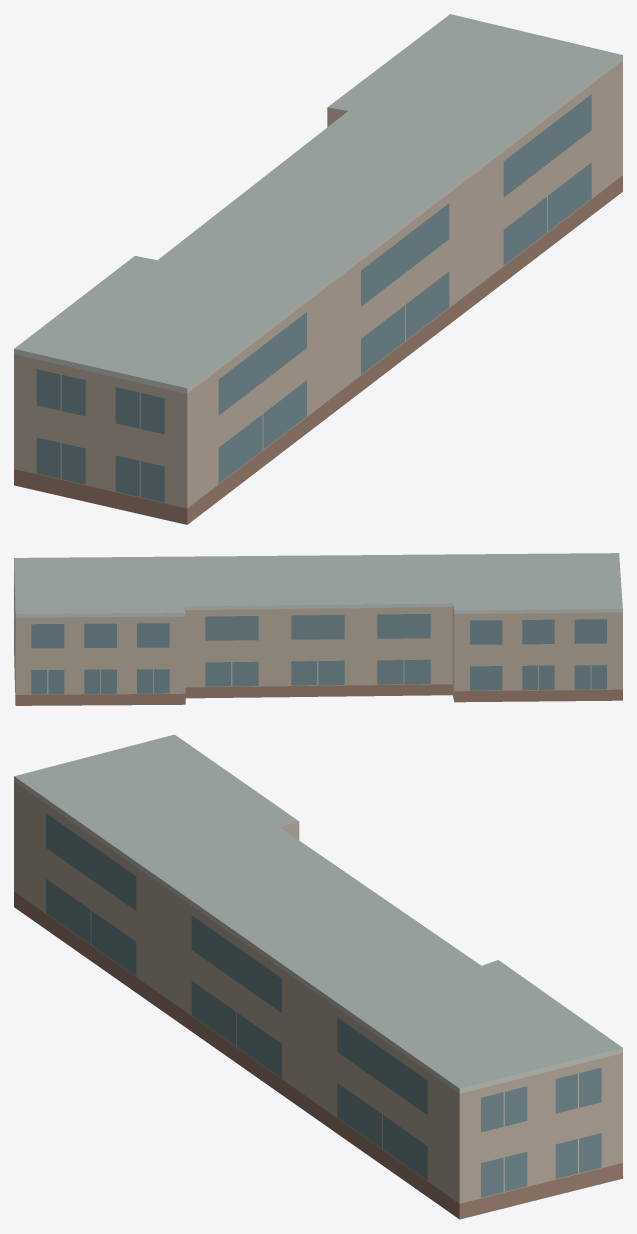
File: survey-upis-32910478.glb
3 renders of one model, top to bottom at view 1: azimuth 30°, elevation 25°; view 2: azimuth 150°, elevation 25°; view 3: azimuth 270°, elevation 25°, orthographic. The views are drawn at different scales.
Parts seen in each view (by area): view 1: survey-upis-32910478.tmp; view 2: survey-upis-32910478.tmp; view 3: survey-upis-32910478.tmp.
Boxes of the visible parts, x1,y1,x2,y2 form: survey-upis-32910478.tmp: [14, 14, 622, 524]; survey-upis-32910478.tmp: [14, 553, 622, 705]; survey-upis-32910478.tmp: [14, 734, 622, 1219].
Bounding box in the file's own units: 35.42 × 6.1 × 25.73.
